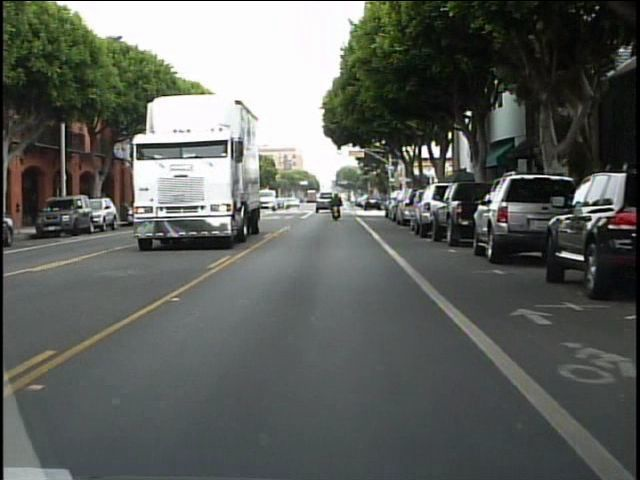person: (329, 191, 342, 223)
